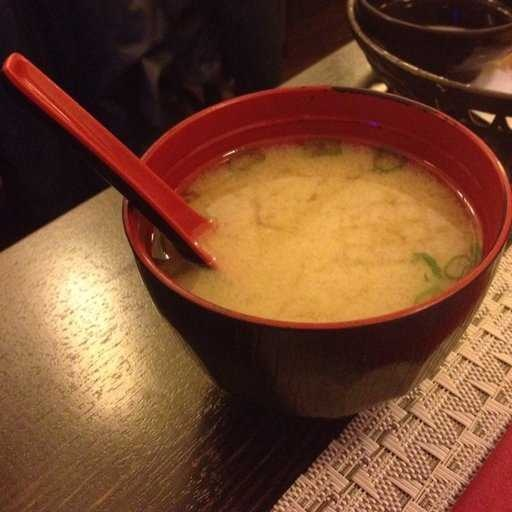soup: (183, 96, 443, 330)
